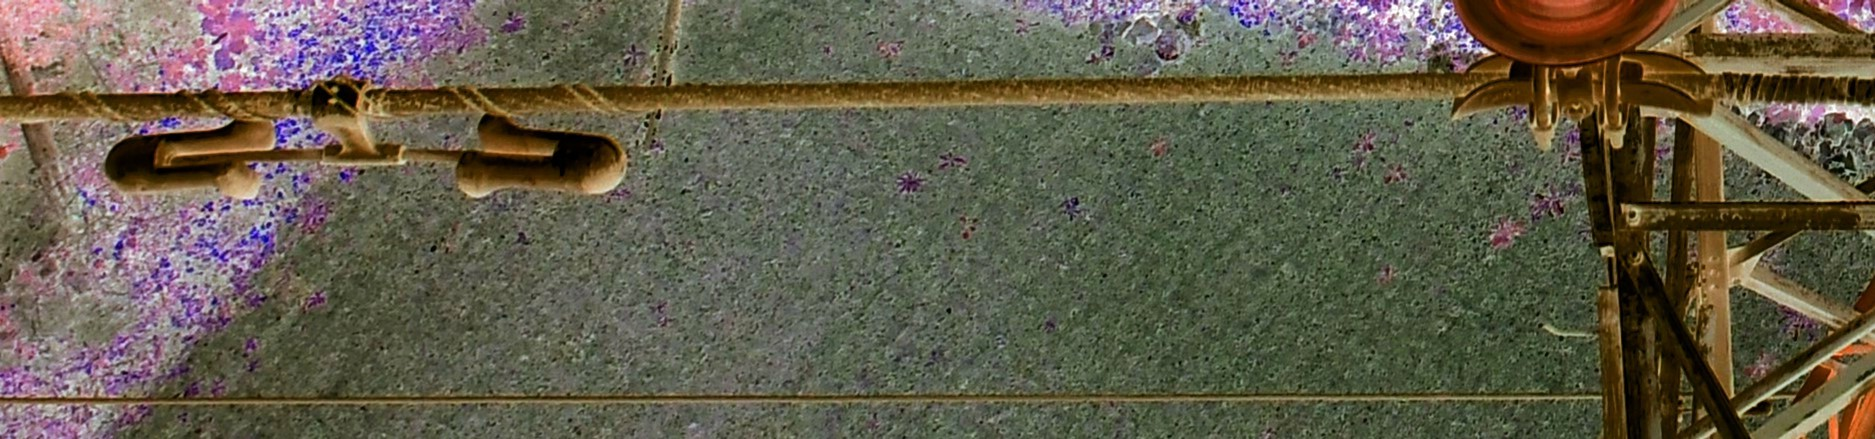Shockproof hammer: (94, 51, 643, 211)
